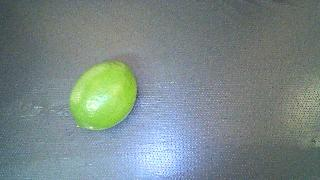EXPORTACION: (69, 61, 137, 130)
